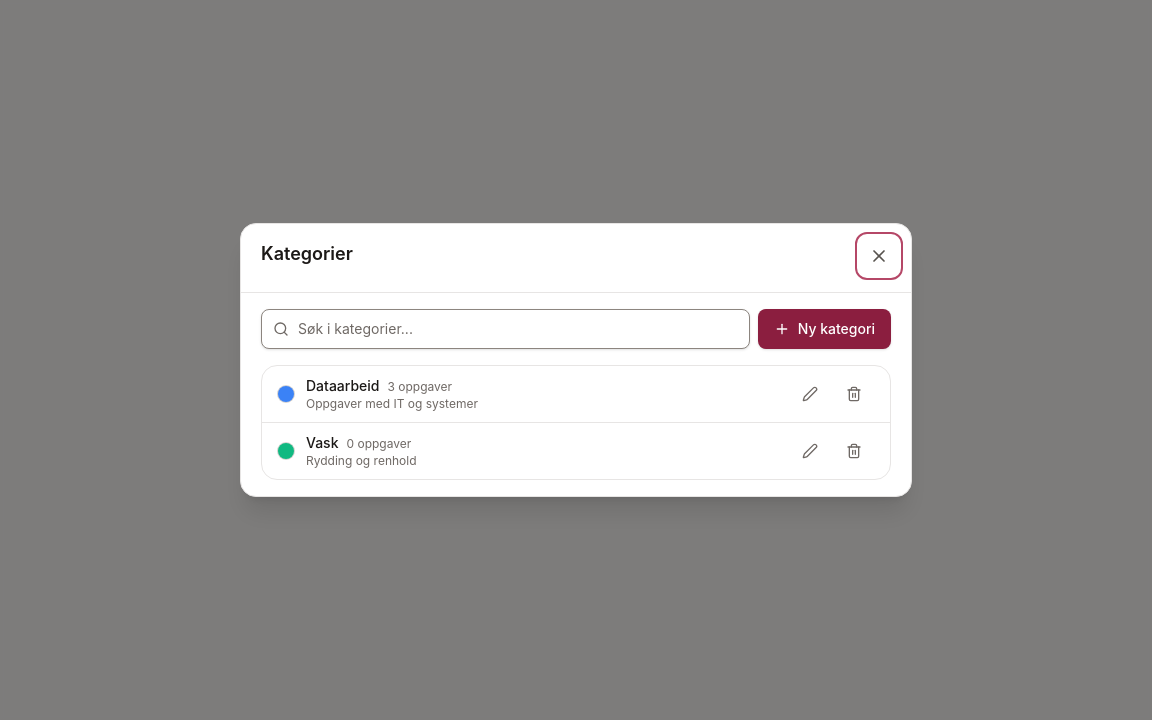
Test: CategoryManagement › does not delete a category that is used by tasks
This screenshot has width=1152, height=720.
Expected: the text "3 oppgaver" is shown, [388,379,452,395]
Click the button named "Slett Dataarbeid" at x=854, y=394, box [834,374,874,414]
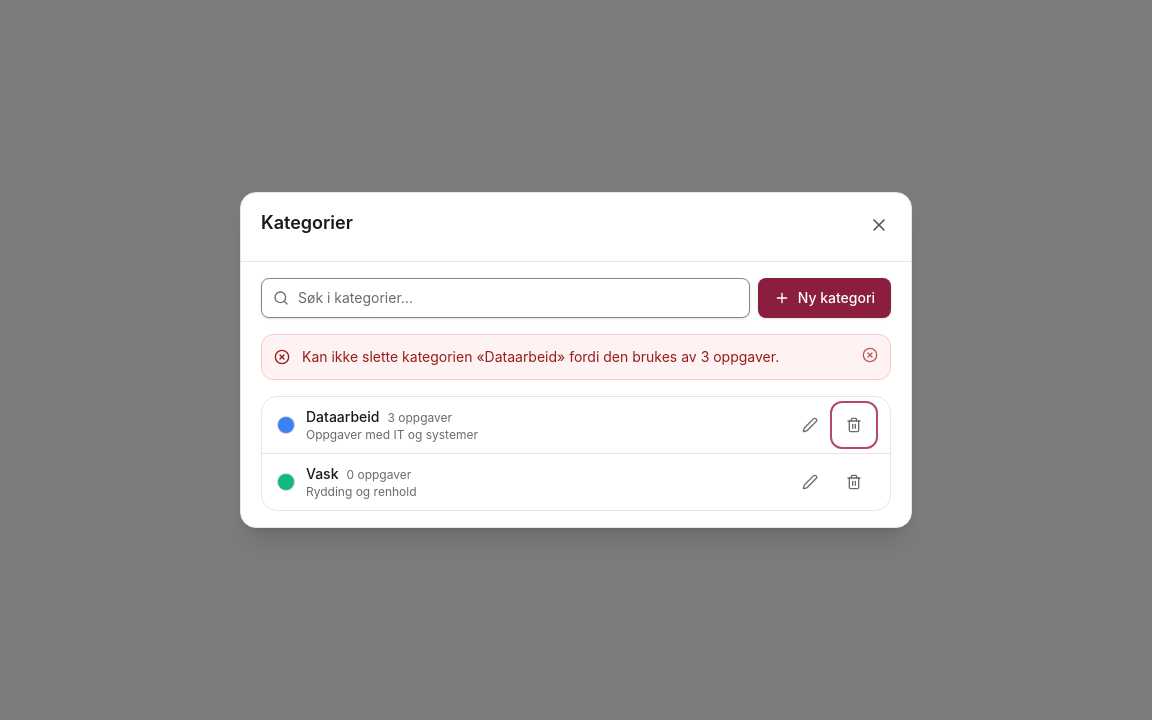
Now the text "Kan ikke slette kategorien «Dataarbeid» fordi den brukes av 3 oppgaver." is shown, box [302,347,850,367]
